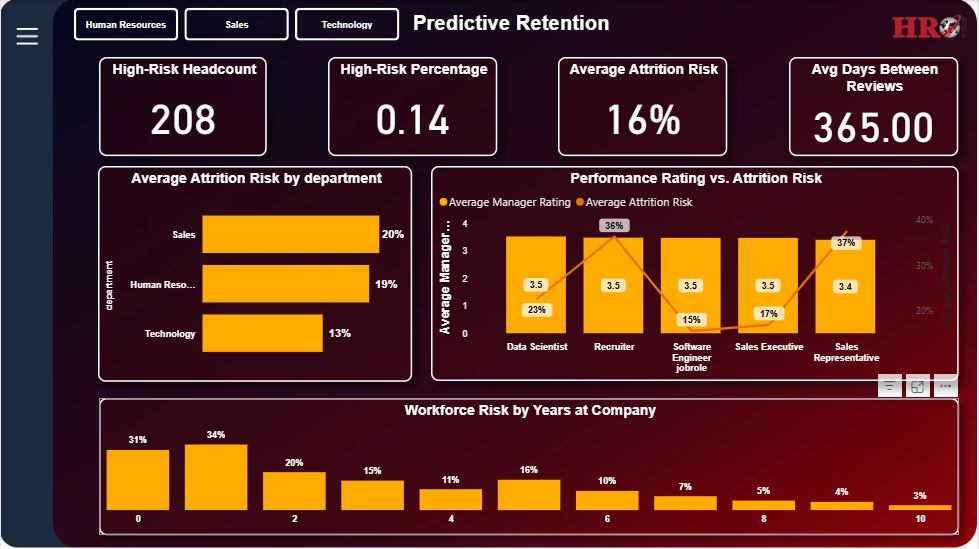

What the dashboard file says about the page in this screenshot:
{"tool":"powerbi","page":{"name":"Predictive Retention Insights","canvas":[1280,720],"ordinal":5},"visuals":[{"type":"card","title":"High-Risk Headcount","fields":{"Values":["employee_predictions.High-Risk Headcount"]},"box":[128.3,75,220,130],"z":0},{"type":"card","title":"High-Risk Percentage","fields":{"Values":["employee_predictions.High-Risk Percentage"]},"box":[428.9,75,221.7,130],"z":1000},{"type":"card","title":"Average Attrition Risk","fields":{"Values":["employee_predictions.Average Attrition Risk"]},"box":[731.1,75,221.7,130],"z":2000},{"type":"card","title":"Avg Days Between Reviews","fields":{"Values":["performance_fact.Average Days Between Reviews"]},"box":[1033.3,75,221.7,130],"z":3000},{"type":"clusteredBarChart","fields":{"Category":["employee_master.department"],"Y":["employee_predictions.Average Attrition Risk"]},"box":[127.8,217.8,411.9,282.5],"z":4000},{"type":"textbox","box":[528,11,281.4,41],"z":5000},{"type":"clusteredColumnChart","title":"Workforce Risk by Years at Company","fields":{"Category":["employee_master.yearsatcompany"],"Y":["employee_predictions.Average Attrition Risk"]},"box":[128,522,1128,180],"z":6000},{"type":"lineClusteredColumnComboChart","title":"Performance Rating vs. Attrition Risk","fields":{"Category":["employee_master.jobrole"],"Y":["performance_fact.Average Manager Rating"],"Y2":["employee_predictions.Average Attrition Risk"]},"box":[564,218,692,282],"z":7000},{"type":"advancedSlicerVisual","fields":{"Values":["employee_master.department"]},"box":[90,5.6,438.9,53.3],"z":8000},{"type":"actionButton","title":"Menu btn","box":[15,27.1,40,40],"z":9000}]}

Visuals, with their boxes in screenshot pixels (x1, y1, x2, y2), scaled from the page's 1280x720 canvas onto the 979x549 screenshot:
"High-Risk Headcount" card: select_region(98, 57, 266, 156)
"High-Risk Percentage" card: select_region(328, 57, 498, 156)
"Average Attrition Risk" card: select_region(559, 57, 729, 156)
"Avg Days Between Reviews" card: select_region(790, 57, 960, 156)
clusteredBarChart - employee_master.department x employee_predictions.Average Attrition Risk: select_region(98, 166, 413, 381)
textbox: select_region(404, 8, 619, 40)
"Workforce Risk by Years at Company" clusteredColumnChart: select_region(98, 398, 961, 535)
"Performance Rating vs. Attrition Risk" lineClusteredColumnComboChart: select_region(431, 166, 961, 381)
advancedSlicerVisual - employee_master.department: select_region(69, 4, 405, 45)
"Menu btn" actionButton: select_region(11, 21, 42, 51)
